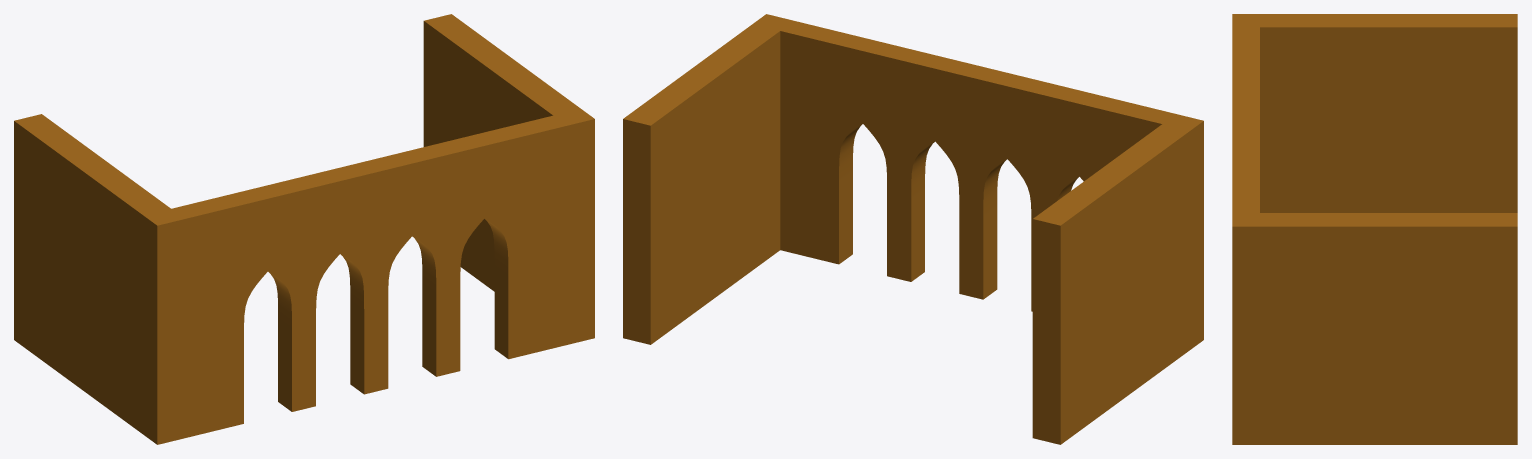
Rendered from wall.fbx.
3 views of the same model, side by side, from view 1: azimuth 30°, elevation 25°; view 2: azimuth 150°, elevation 25°; view 3: azimuth 270°, elevation 25° (orthographic).
Visible parts, largest first — view 1: Cube; view 2: Cube; view 3: Cube.
Part boxes in pixels (x1,y1,x2,y2): Cube: (14,14,594,444); Cube: (623,14,1203,444); Cube: (1232,14,1517,444).
Bounding box in the file's own units: 36.4 × 17.43 × 20.66.
